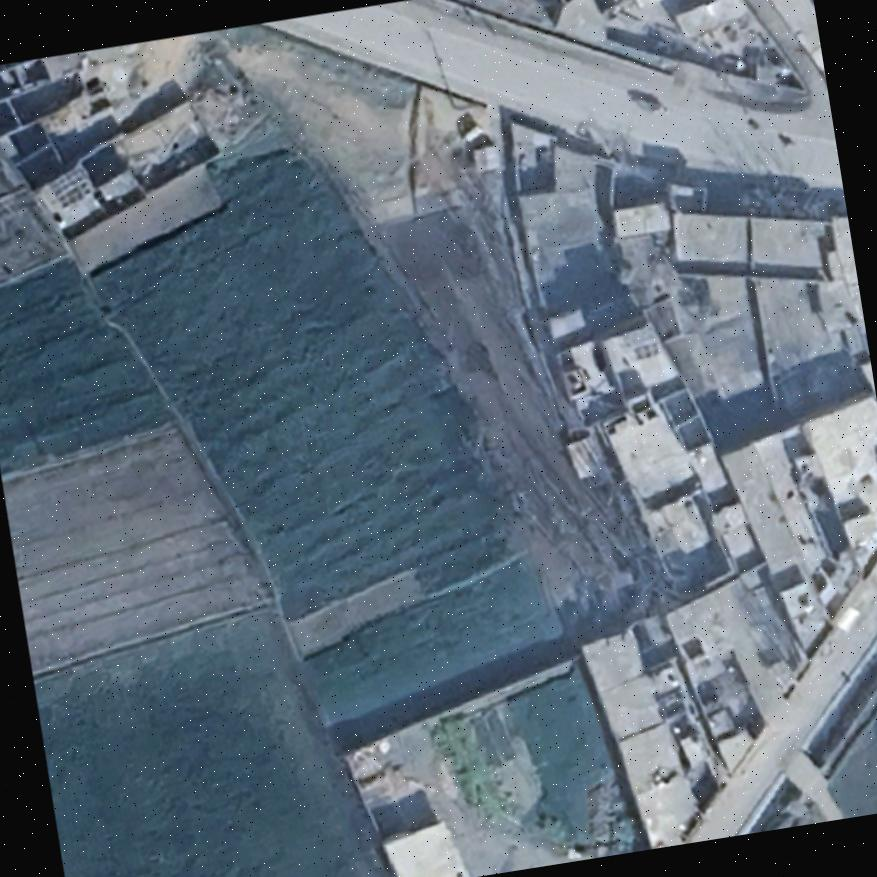Solarpanel: (48, 165, 95, 210), (628, 336, 663, 363)
